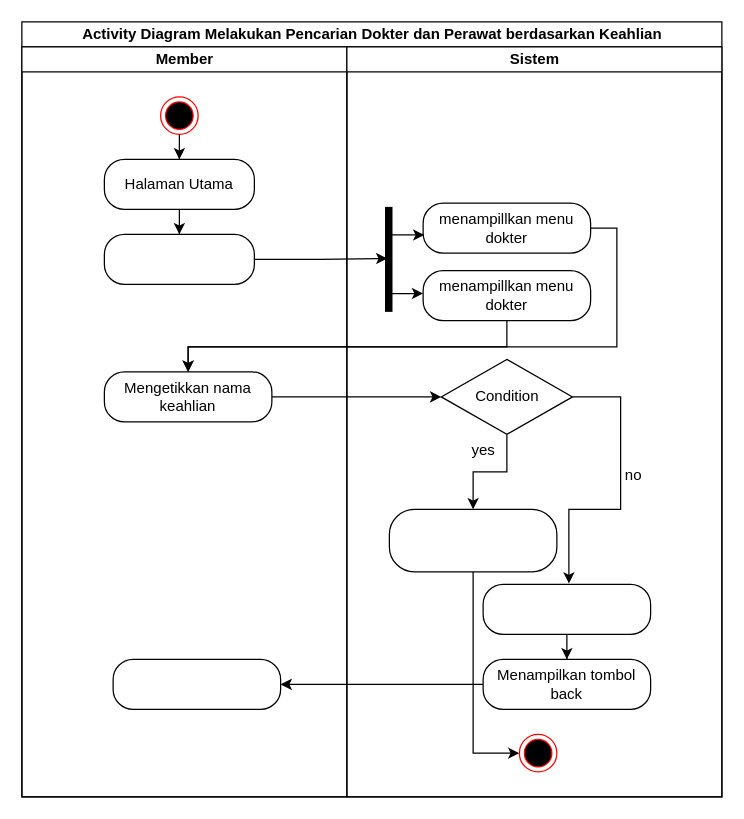
Image size: 744x819. Some labels were removed from this diagram. The centre of each missing label's shape, as x and y in pixels:
data tidak ditemukan: (566,608)
Memilih menu chat ahli: (178,258)
Menampilkan daftar dokter dan perawat berdasarkan pencarian: (472,540)
Menekan tombol back: (196,683)
